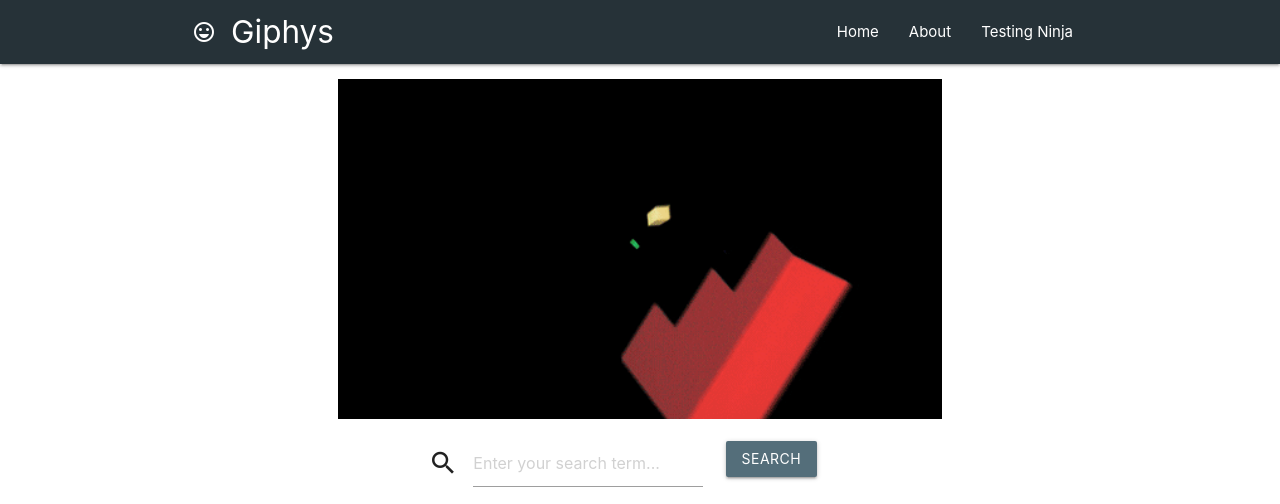
App Routing › displays the about page when selecting the about link from the desktop menu
This screenshot has width=1280, height=504.
Expected: the picture with test id "giphy-search-image" is shown, [338,79,942,419]
Click the link "About". click: (930, 32)
box: [909,22,951,41]
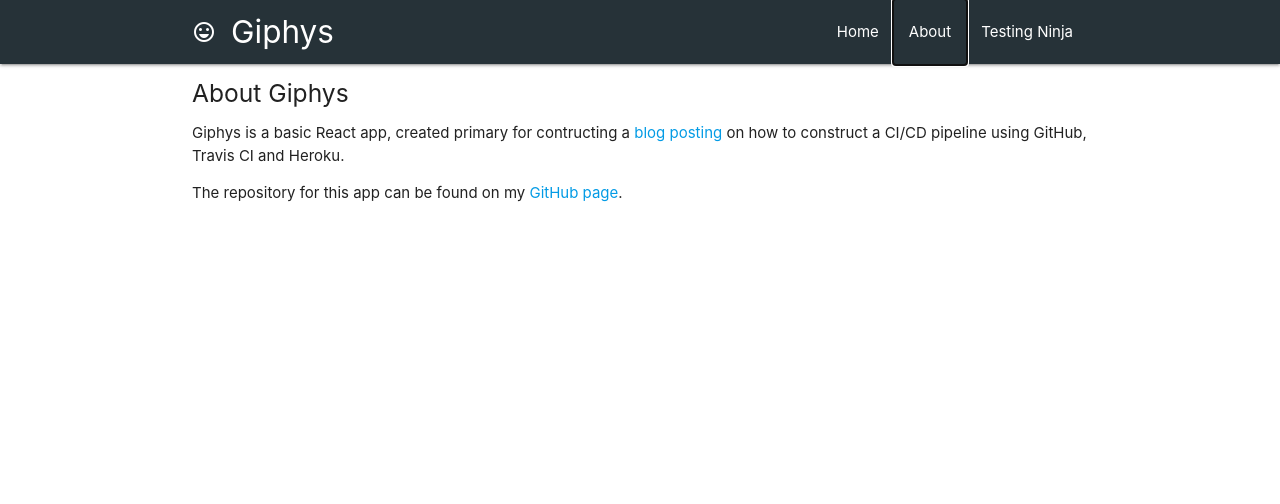
Expected: the heading "About Giphys" is shown, [192,78,349,108]
